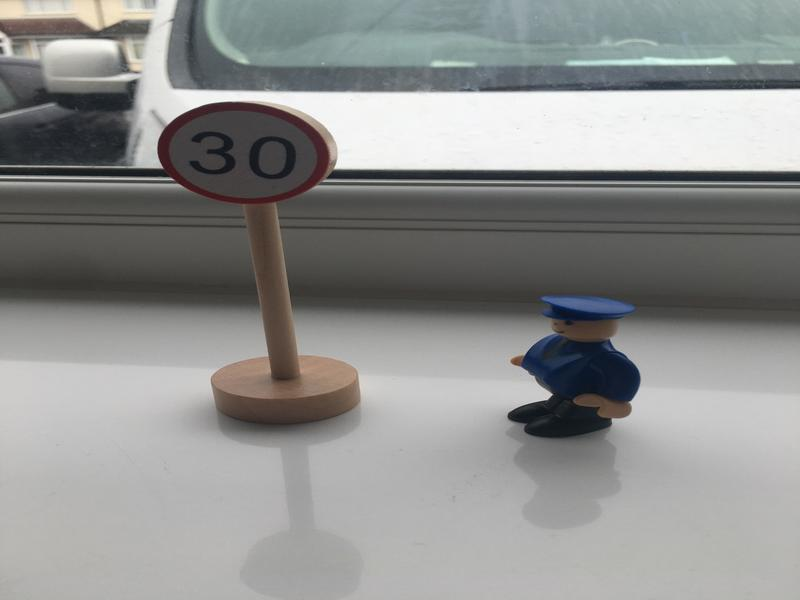Traffic_Sign_30: (154, 104, 334, 202)
person: (509, 292, 642, 442)
